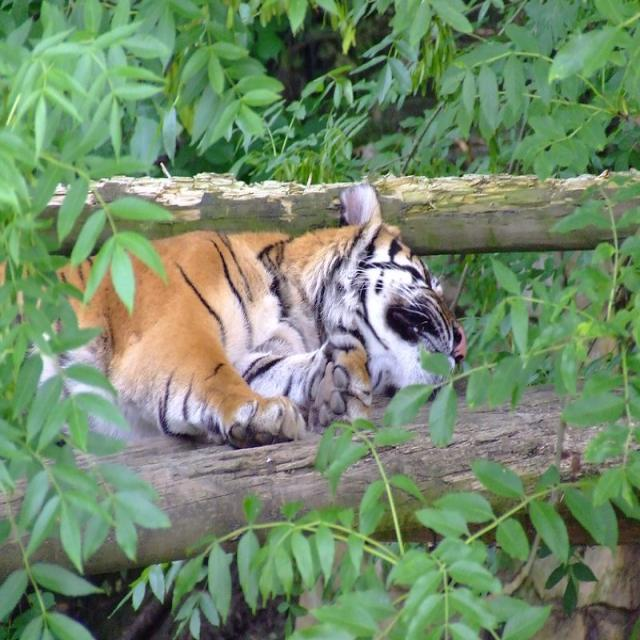Tiger: (1, 182, 466, 452)
